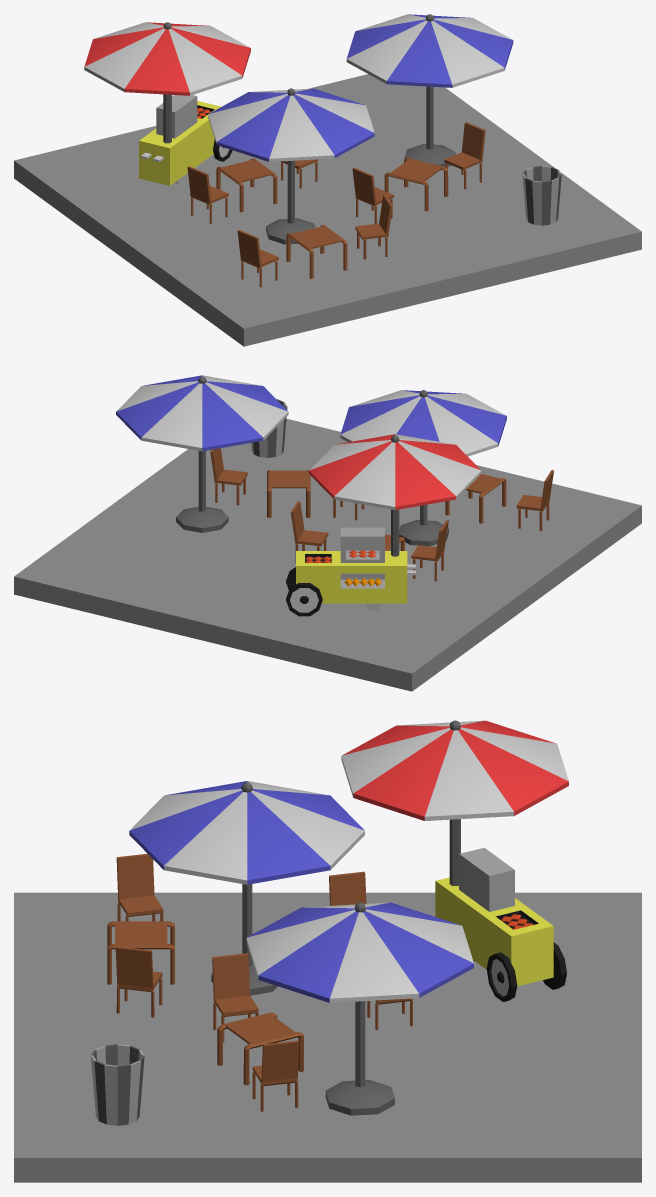
The model's file is Terrace.fbx.
3 views of the same model, one above another, from view 1: azimuth 30°, elevation 25°; view 2: azimuth 150°, elevation 25°; view 3: azimuth 270°, elevation 25° (orthographic). The views are drawn at different scales.
Parts seen in each view (by area): view 1: pCube11; view 2: pCube11; view 3: pCube11.
Boxes of the visible parts, box(x1,y1,x2,y2) form: pCube11: box(14, 14, 641, 346); pCube11: box(14, 375, 641, 691); pCube11: box(14, 720, 641, 1182).
Size of the model in its own units: 96 by 42.67 by 96.
